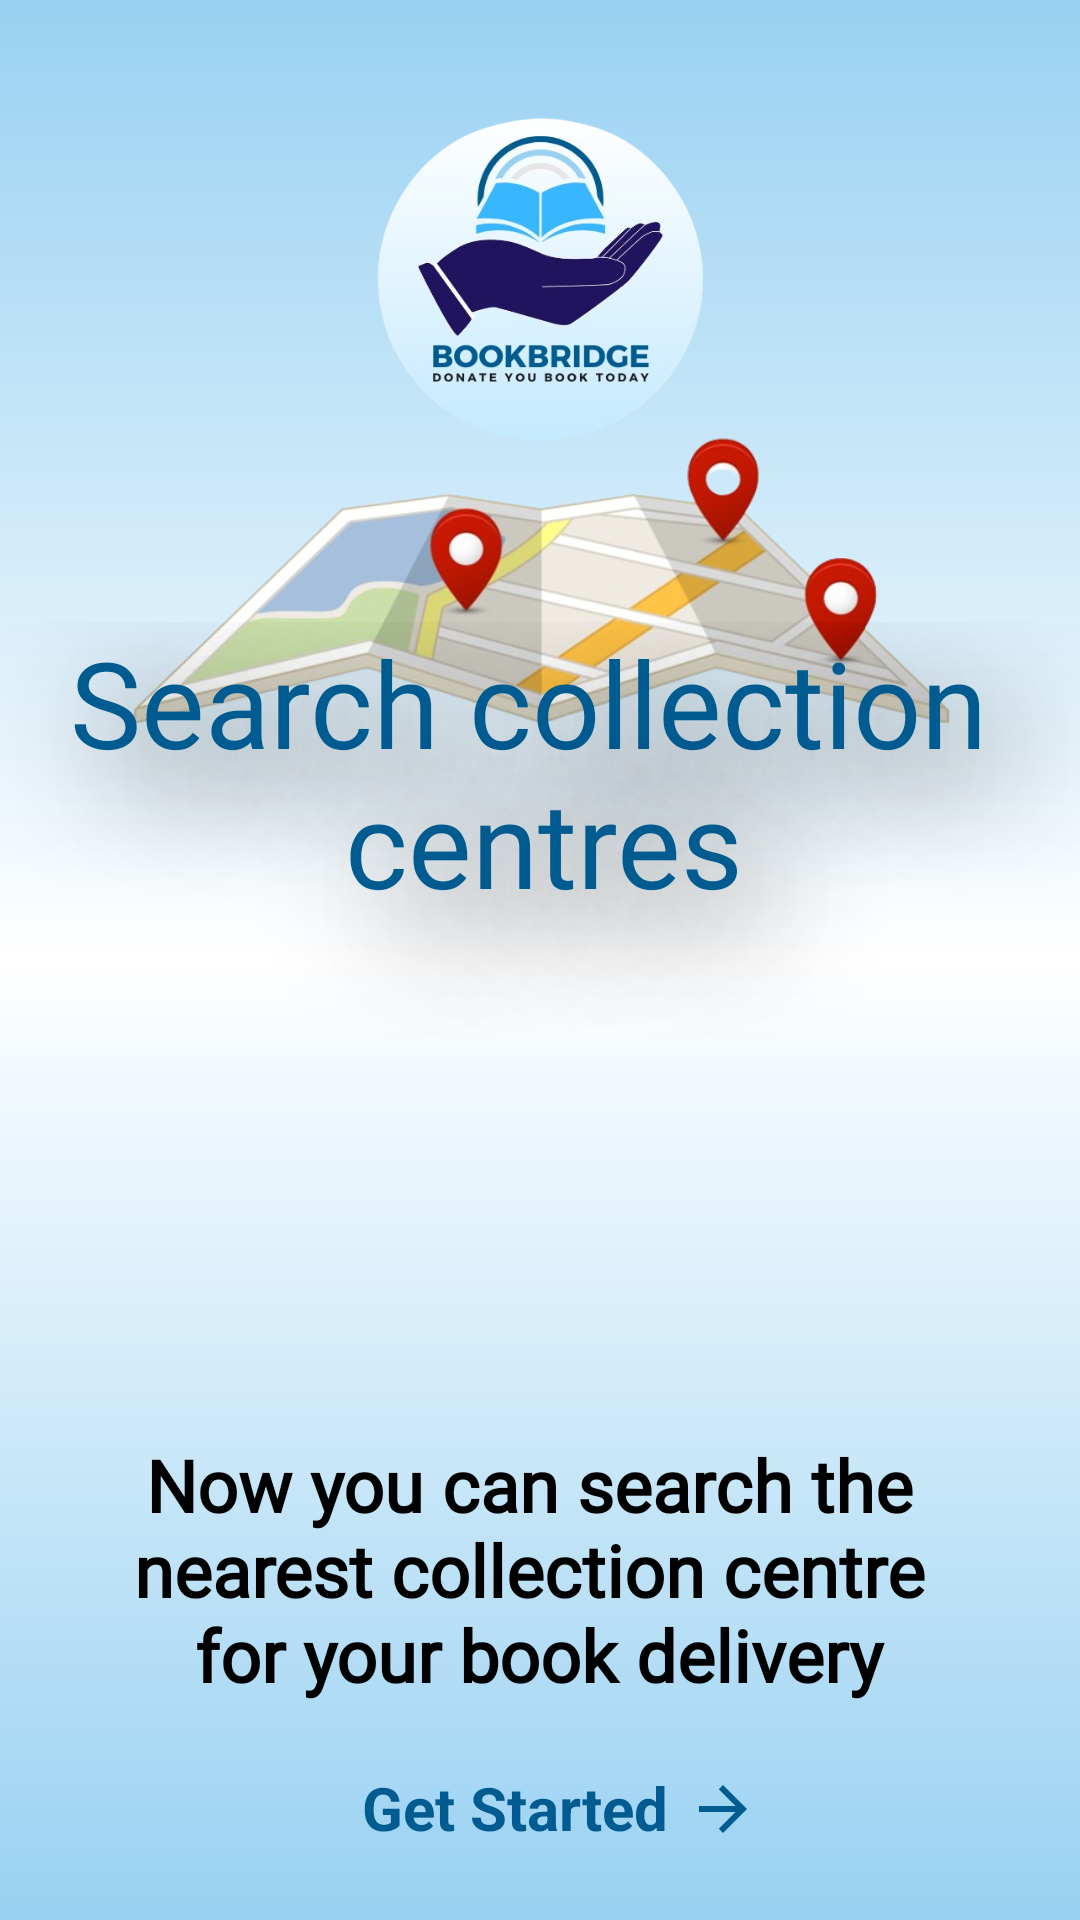

Point at icon controls on the screen. Image size 1080*1920, points as (x=x, y=y).
arrow forward: (x=723, y=1809)
